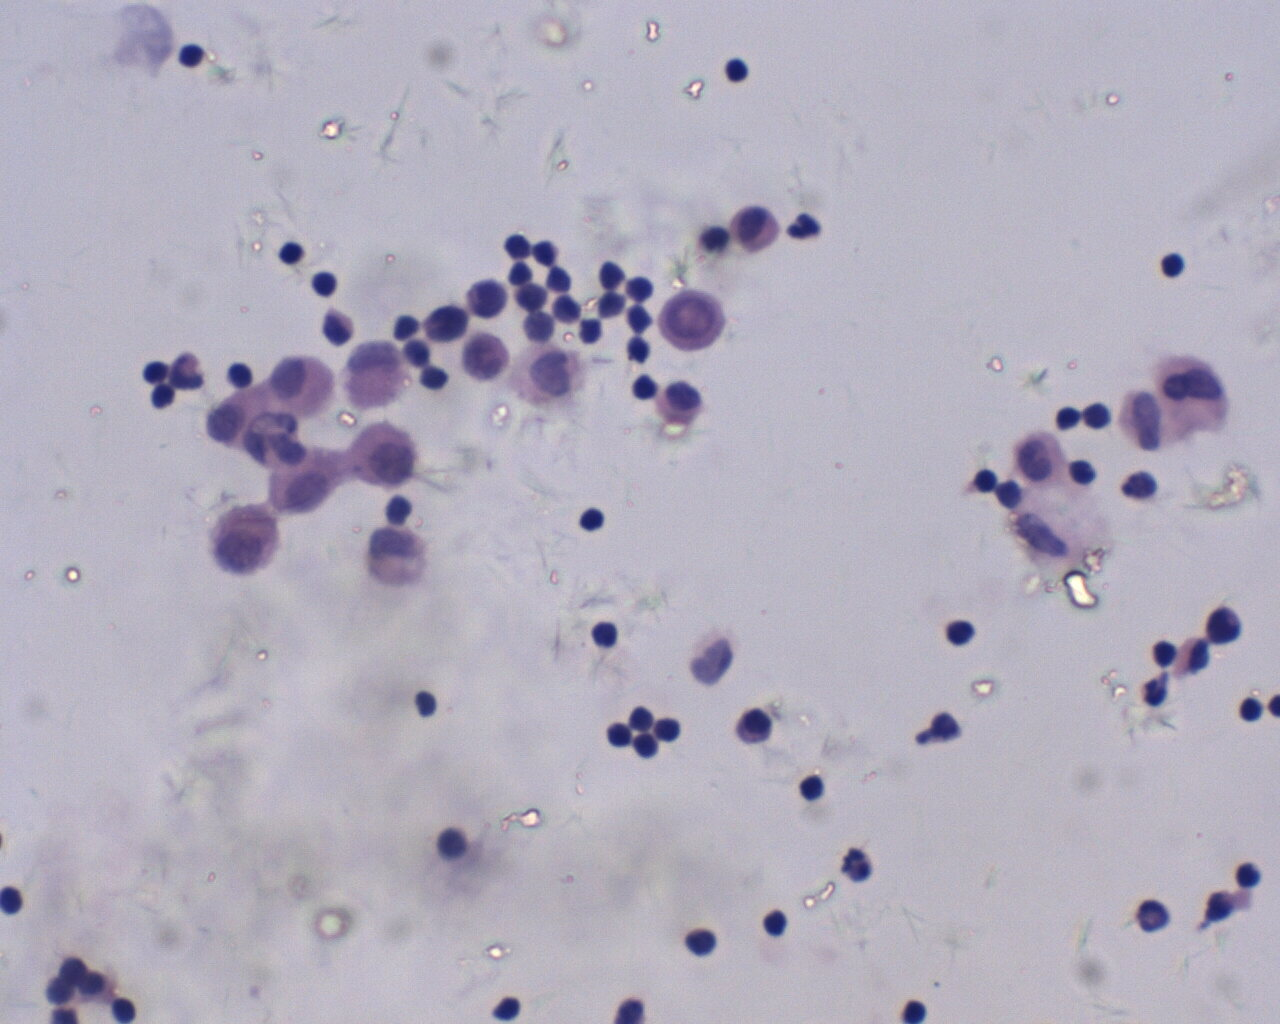ab: (651, 289, 729, 352)
lymph: (173, 38, 209, 74), (685, 923, 718, 959), (945, 615, 980, 647), (1232, 692, 1267, 723), (722, 53, 753, 85), (760, 905, 791, 936), (796, 772, 828, 804), (271, 238, 306, 264), (1159, 249, 1187, 280), (628, 375, 661, 401), (309, 267, 335, 298), (580, 507, 606, 533)
meso: (207, 501, 284, 574), (269, 351, 338, 421), (353, 423, 421, 491)
neutro: (786, 205, 828, 243)
